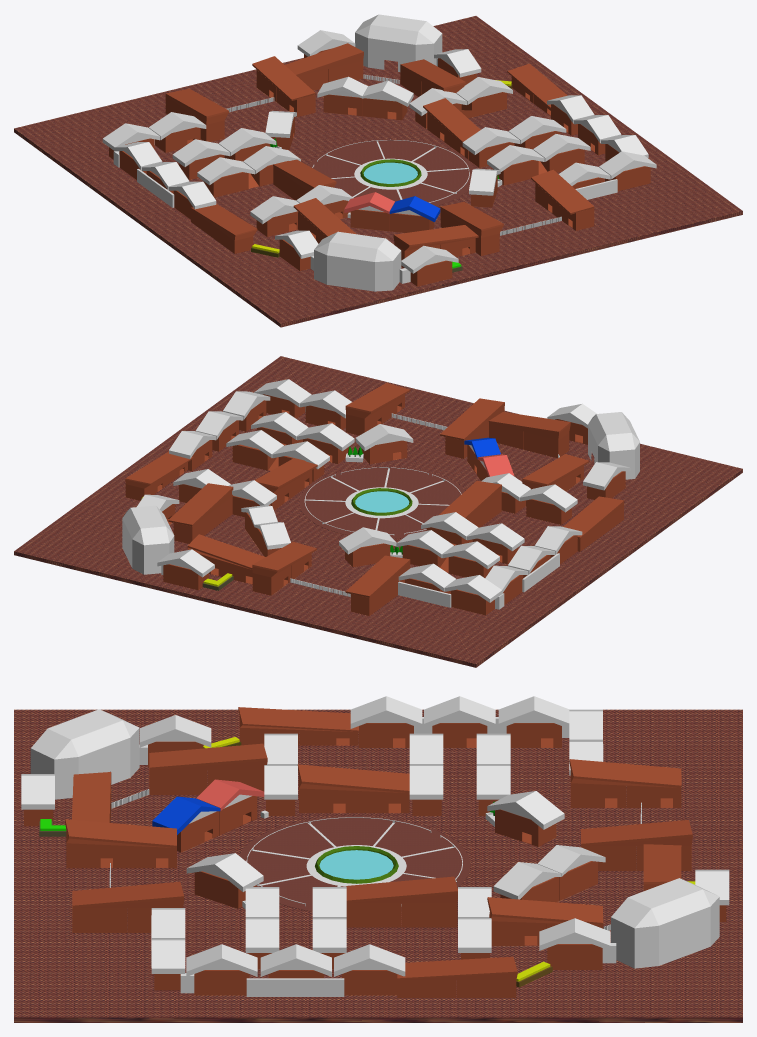
The model's file is StageOne.gltf.
The picture shows the model from 3 angles, top to bottom: view 1: azimuth 30°, elevation 25°; view 2: azimuth 150°, elevation 25°; view 3: azimuth 270°, elevation 25°; orthographic projection. The views are drawn at different scales.
Parts seen in each view (by area): view 1: Cube.002, Cylinder.004, Cube.074, Cube.121, Cube.085, Cube.026, Cube.047, Cube.136, Cube.052, Cube.046, Cube.025, Cube.041 (+53 smaller); view 2: Cube.002, Cylinder.004, Cube.121, Cube.052, Cube.074, Cube.086, Cube.046, Cube.047, Cube.026, Cube.025, Cube.085, Cube.136 (+48 smaller); view 3: Cube.002, Cylinder.004, Cube.121, Cube.074, Cube.041, Cube.018, Cube.025, Cube.046, Cube.053, Cube.150, Cube.026, Cube.047 (+53 smaller).
Boxes of the visible parts, x1,y1,x2,y2 form: Cube.002: (14, 16, 742, 327); Cylinder.004: (308, 139, 474, 206); Cube.074: (314, 231, 401, 291); Cube.121: (355, 14, 442, 71); Cube.085: (285, 43, 363, 90); Cube.026: (531, 169, 594, 230); Cube.047: (252, 56, 315, 117); Cube.136: (191, 203, 257, 253); Cube.052: (393, 225, 478, 268); Cube.046: (165, 88, 228, 141); Cube.025: (440, 202, 503, 255); Cube.041: (423, 98, 480, 159); Cube.002: (14, 356, 742, 667); Cylinder.004: (299, 466, 465, 538); Cube.121: (122, 505, 174, 574); Cube.052: (488, 412, 570, 458); Cube.074: (588, 412, 639, 479); Cube.086: (168, 483, 233, 543); Cube.046: (345, 555, 410, 615); Cube.047: (252, 541, 316, 595); Cube.026: (345, 383, 410, 435); Cube.025: (440, 398, 504, 458); Cube.085: (187, 534, 265, 584); Cube.136: (563, 496, 624, 551); Cube.002: (14, 709, 742, 1022); Cylinder.004: (239, 815, 470, 911); Cube.121: (611, 878, 719, 968); Cube.074: (30, 709, 139, 799); Cube.041: (346, 876, 457, 927); Cube.018: (297, 764, 409, 813); Cube.025: (65, 819, 176, 868); Cube.046: (569, 759, 681, 807); Cube.053: (149, 743, 267, 794); Cube.150: (397, 956, 517, 997); Cube.026: (72, 881, 184, 932); Cube.047: (580, 820, 692, 870).
Bounding box in the file's own units: 134 × 12.39 × 134.
19 materials, 2 textured.
